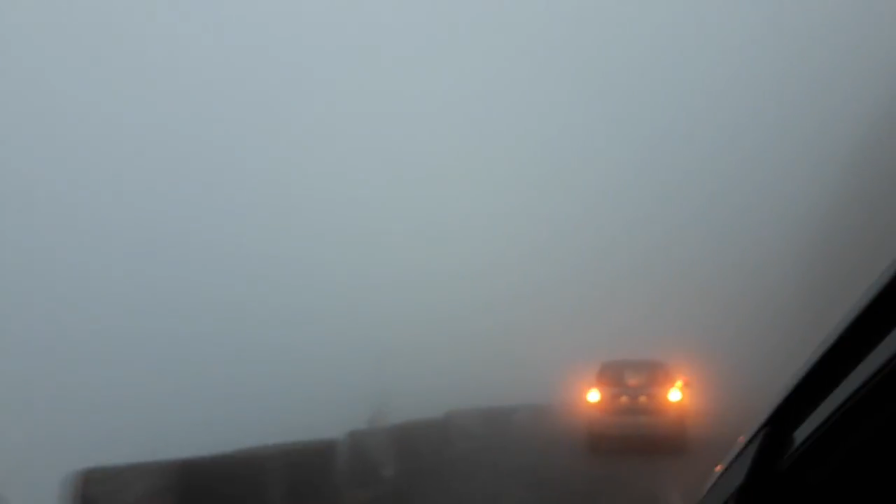car: (585, 357, 686, 451), (632, 362, 693, 415)
